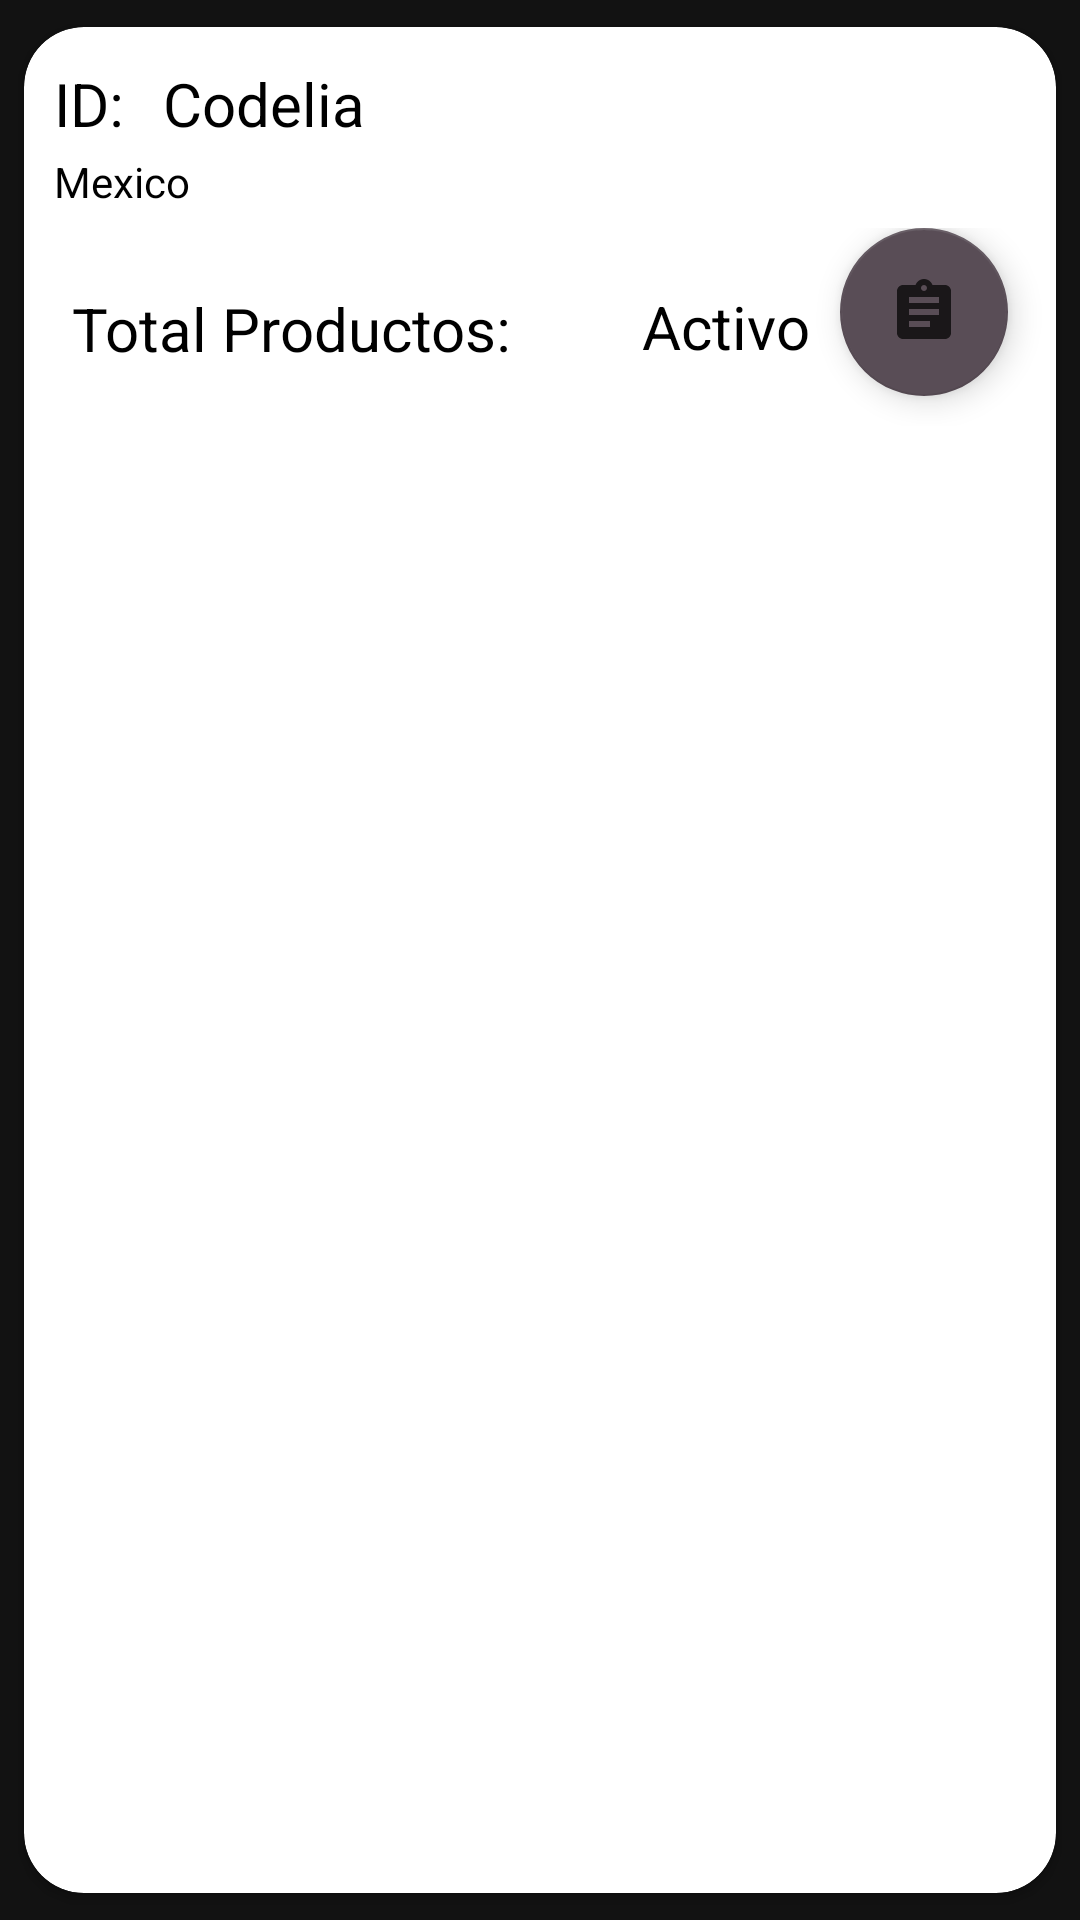

Screen size 1080px x 1920px. Icon name, then its center in pixels as point (x, y):
assignment: point (924, 312)
